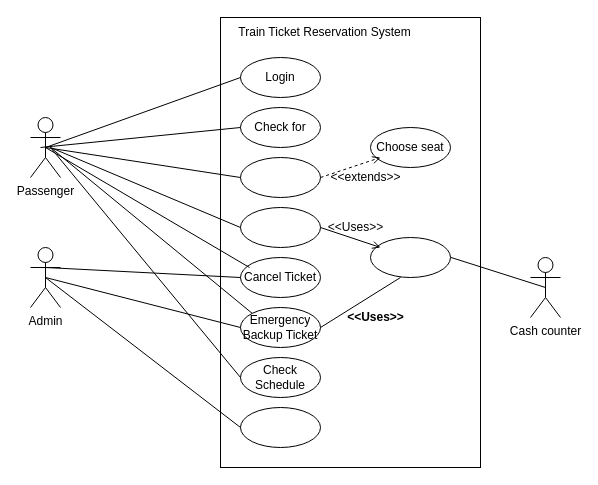
Image size: 598x485. Some labels were removed from this diagram. The shapes that lost their labels are listed below. From the top down, each one's box as (x1, y1, x2, y2) in pixels, then its label:
(240, 156, 320, 198): Book Ticket
(240, 206, 320, 248): Payment
(370, 236, 450, 278): Tk
(240, 406, 320, 448): Update Schedule
